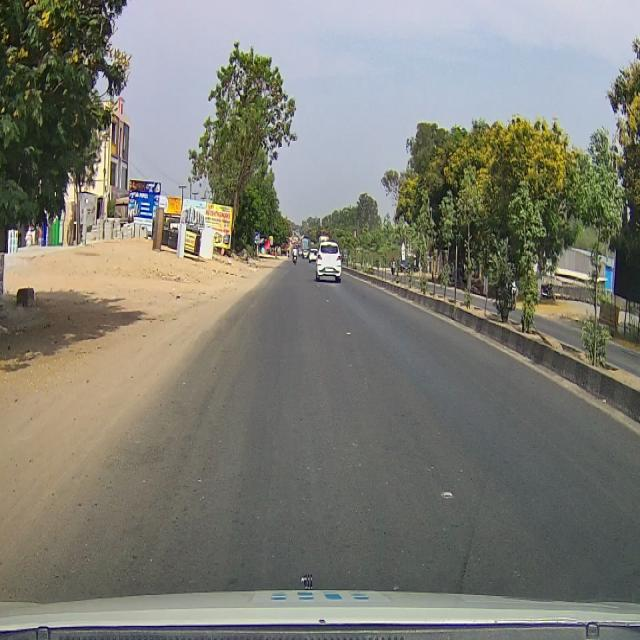car ahead at: (314, 239, 343, 282)
